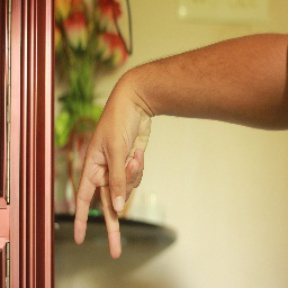Y: (69, 89, 157, 261)
